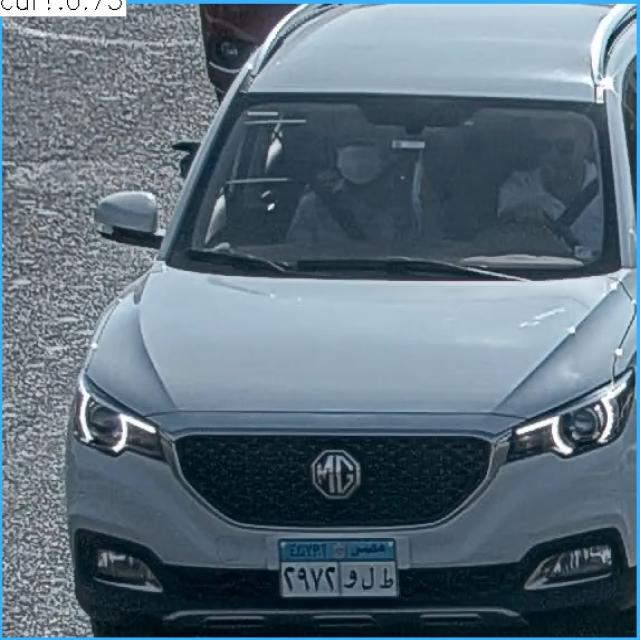windshield: (169, 94, 613, 276)
